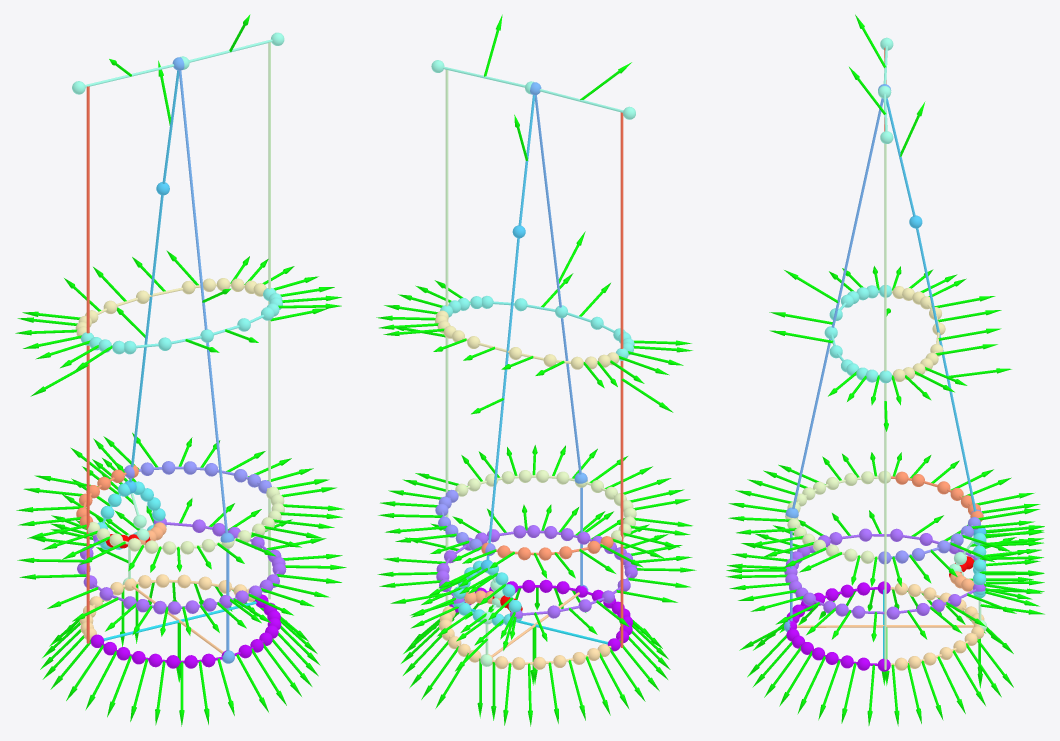
Rendered from t2f_toothpaste.gltf.
The picture shows the model from 3 angles, left to right: view 1: azimuth 30°, elevation 25°; view 2: azimuth 150°, elevation 25°; view 3: azimuth 270°, elevation 25°; orthographic projection. The views are drawn at different scales.
Size of the model in its own units: 0.5046 by 1.08 by 0.4853.
